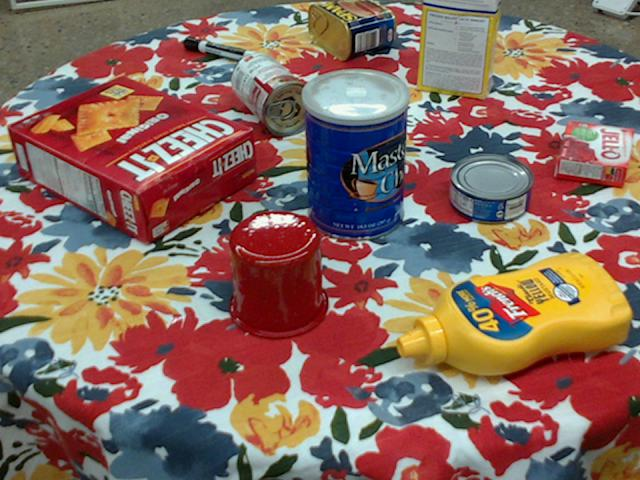cracker_box: (10, 76, 256, 242)
gelatin_box: (553, 121, 631, 188)
large_marker: (184, 35, 260, 64)
master_chef_can: (301, 68, 408, 241)
mug: (227, 209, 329, 339)
mustard_bottle: (398, 248, 633, 374)
potted_meat_can: (307, 0, 396, 59)
sugar_box: (416, 0, 502, 99)
tomato_soup_can: (230, 51, 315, 135)
tuna_fish_can: (450, 154, 534, 223)
